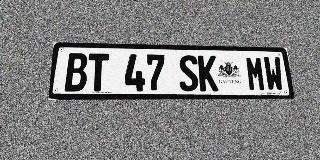4: (125, 54, 145, 91)
7: (146, 54, 166, 91)
B: (64, 53, 88, 91)
K: (198, 55, 219, 91)
M: (245, 56, 266, 91)
S: (178, 55, 199, 91)
T: (87, 53, 109, 91)
W: (263, 56, 285, 91)
